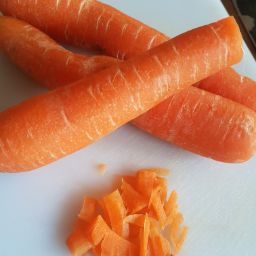Sliced carrots: (2, 2, 256, 170), (22, 86, 252, 161), (56, 163, 194, 256)
